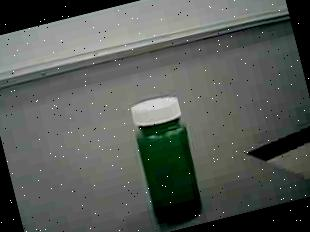Bottle C: (115, 86, 215, 232)
